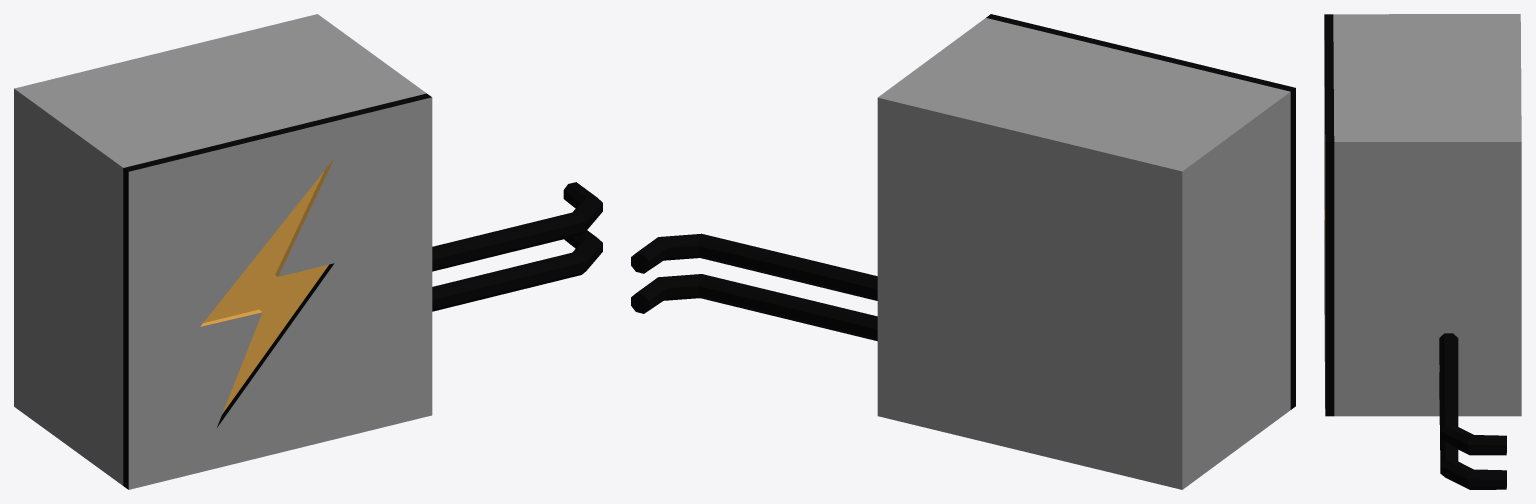
The model's file is power.fbx.
3 views of the same model, side by side, from view 1: azimuth 30°, elevation 25°; view 2: azimuth 150°, elevation 25°; view 3: azimuth 270°, elevation 25° (orthographic). The views are drawn at different scales.
Parts seen in each view (by area): view 1: power; view 2: power; view 3: power.
Boxes of the visible parts, x1,y1,x2,y2 form: power: (14,14,602,489); power: (631,14,1295,489); power: (1324,14,1521,489).
Bounding box in the file's own units: 1.82 × 0.6456 × 0.9899.
